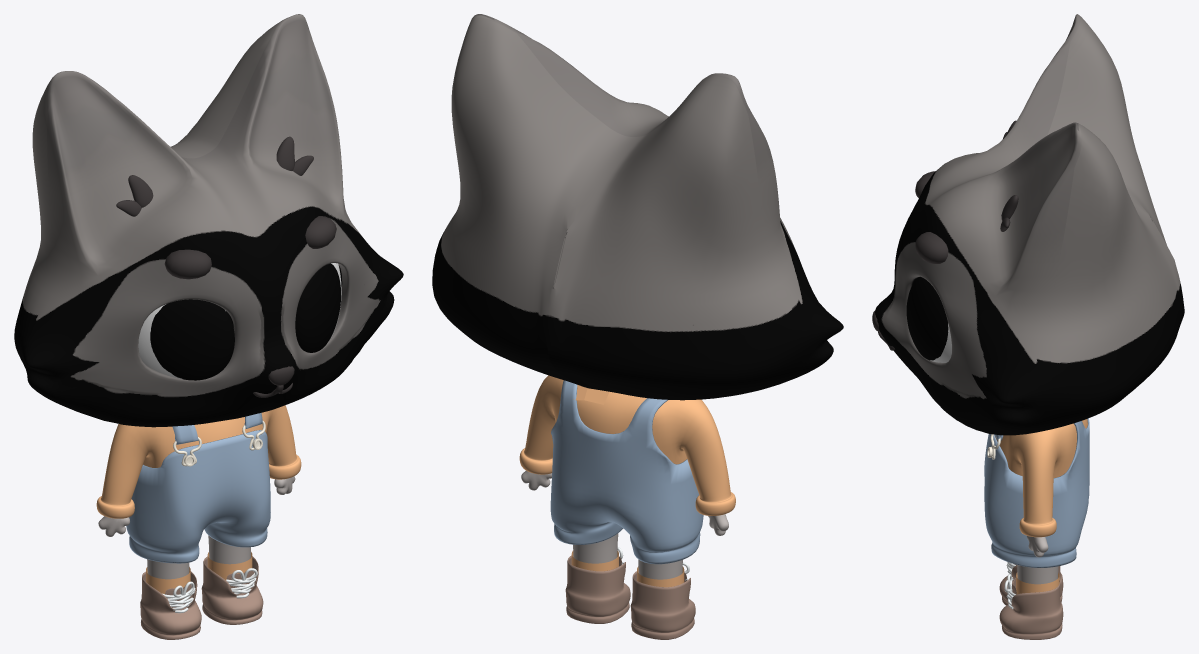
The model's file is racoon.glb.
3 renders of one model, left to right at view 1: azimuth 30°, elevation 25°; view 2: azimuth 150°, elevation 25°; view 3: azimuth 270°, elevation 25°, orthographic. The views are drawn at different scales.
Visible parts, largest first — view 1: HEAD, overal, telo, EYES.001, Cube.001, Cube, socks, Cube.003, EYES, Vert, Cube.004; view 2: HEAD, overal, telo, Cube.001, socks, Vert; view 3: HEAD, overal, telo, Cube.001, EYES.001, Cube, socks.
Part boxes in pixels (x1,y1,x2,y2): HEAD: (14,14,403,427); overal: (126,413,270,563); telo: (96,405,301,579); EYES.001: (150,263,340,380); Cube.001: (140,556,263,639); Cube: (164,216,336,279); socks: (146,552,252,594); Cube.003: (128,136,294,207); EYES: (138,263,341,379); Vert: (98,476,295,536); Cube.004: (116,155,313,216); HEAD: (432,14,843,400); overal: (550,380,703,564); telo: (519,375,735,579); Cube.001: (565,555,695,639); socks: (571,550,684,587); Vert: (521,470,728,535); HEAD: (875,14,1184,435); overal: (984,418,1089,567); telo: (994,419,1087,584); Cube.001: (999,565,1063,639); EYES.001: (906,276,948,360); Cube: (915,171,948,263); socks: (1016,572,1059,594).
Bounding box in the file's own units: 1.61 × 2.3 × 1.2.
Materials: 13 (1 with a texture image).
